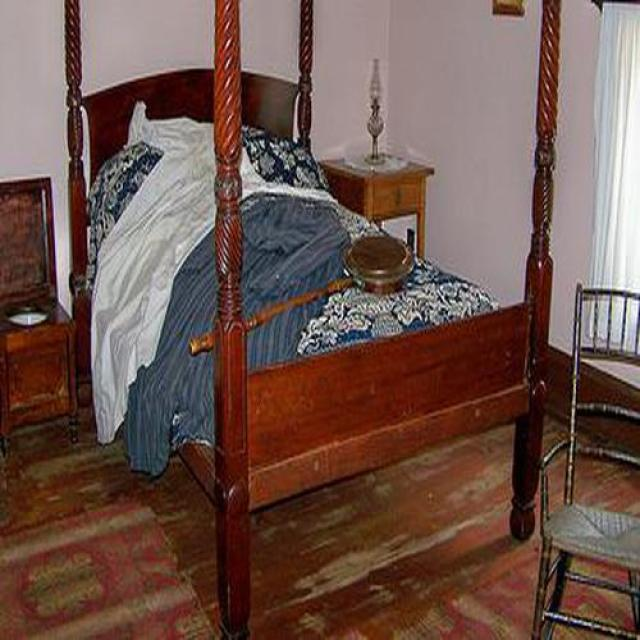bed: (242, 35, 561, 543), (83, 69, 251, 639)
